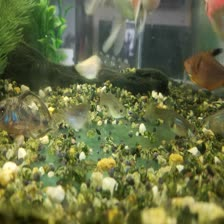Guppy: (140, 98, 201, 140), (90, 87, 127, 120)
Kiros: (0, 89, 62, 137)
Transparente: (179, 47, 223, 93)
